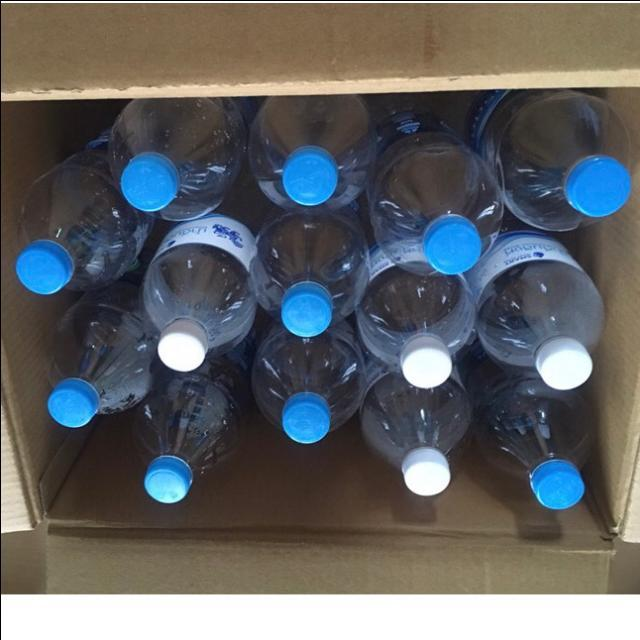PET Bottle: (0, 74, 640, 548)
